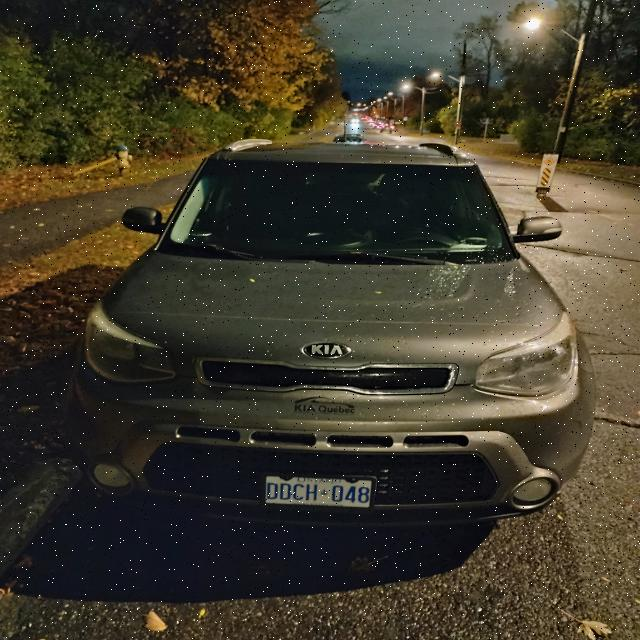plaque: (265, 476, 374, 507)
